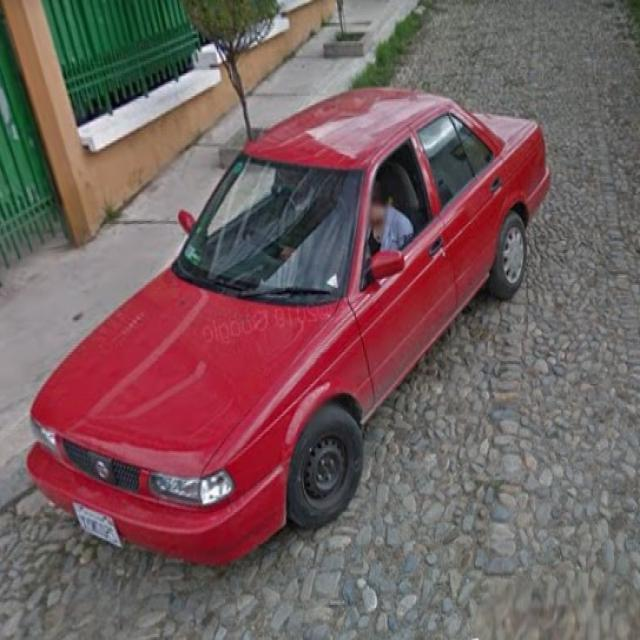car: (28, 88, 522, 552)
